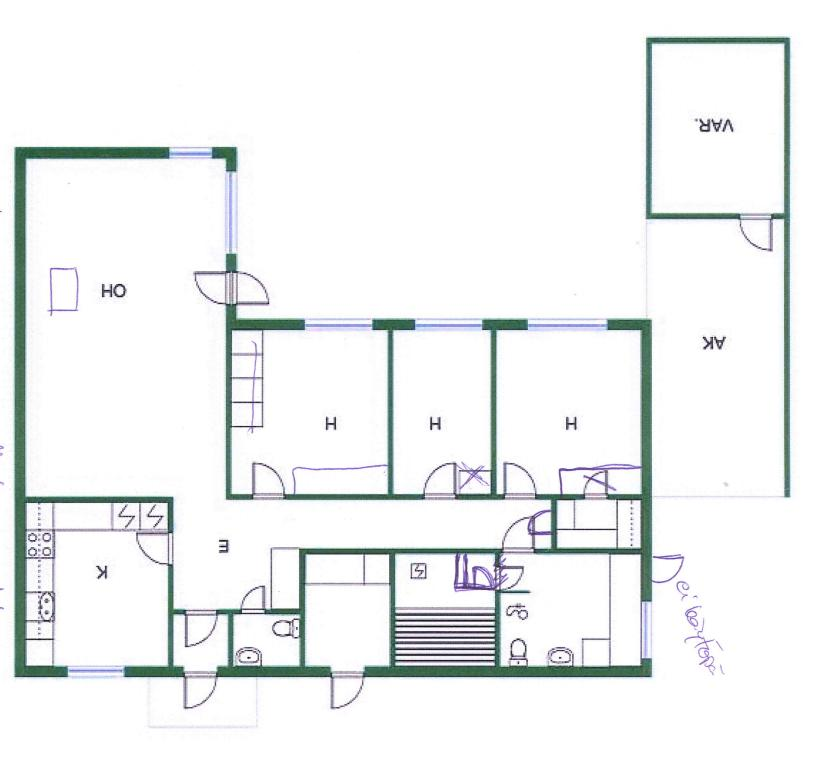bathroom: (498, 552, 640, 672), (233, 611, 301, 669)
door: (226, 264, 277, 310), (184, 266, 236, 307), (325, 664, 367, 712), (134, 526, 178, 569), (182, 664, 217, 718), (251, 456, 287, 508), (500, 514, 538, 560), (502, 460, 542, 503), (181, 607, 219, 651), (738, 210, 776, 252), (421, 462, 459, 503), (526, 505, 559, 541), (495, 565, 529, 596), (236, 582, 267, 612), (471, 565, 494, 591)
perimeter: (12, 146, 654, 680), (645, 36, 793, 221)
window: (297, 314, 384, 335), (514, 317, 614, 335), (222, 165, 240, 264), (407, 316, 491, 335), (61, 661, 135, 682), (159, 139, 221, 163), (638, 596, 656, 667)
